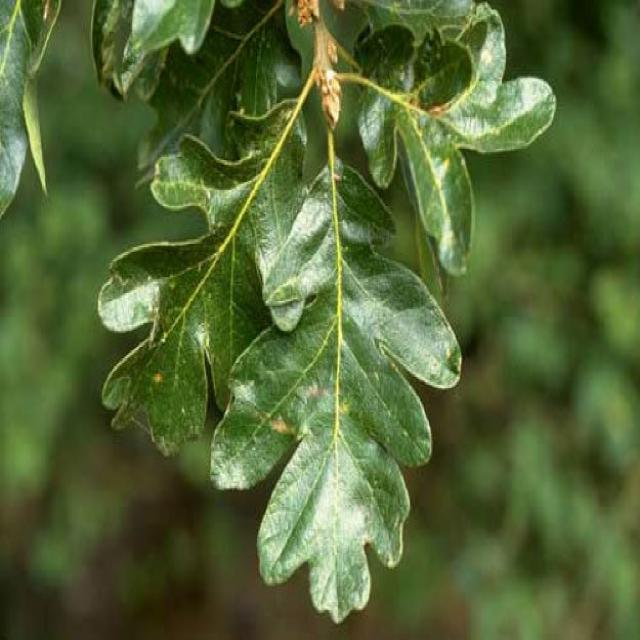Quercus garryana: (87, 0, 558, 624)
